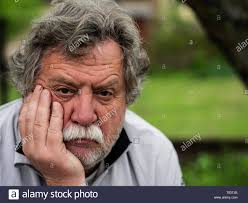white_male: (44, 52, 129, 156)
